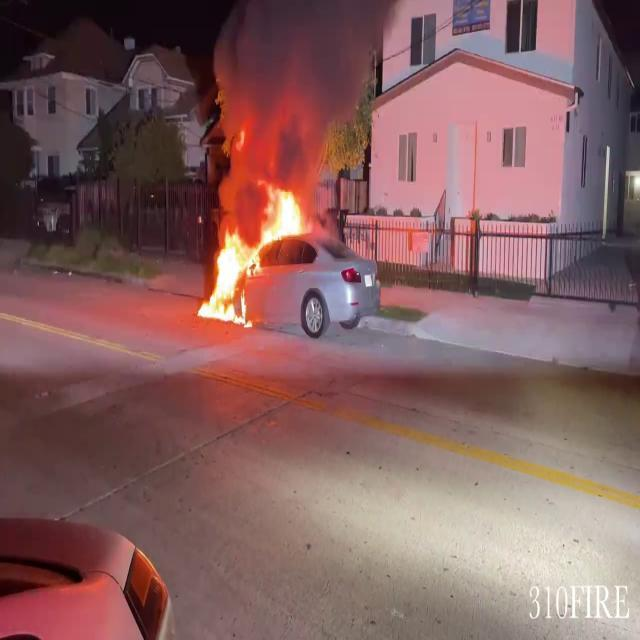Fire: (194, 224, 266, 322), (262, 180, 314, 256)
Smoke: (207, 0, 405, 166)
